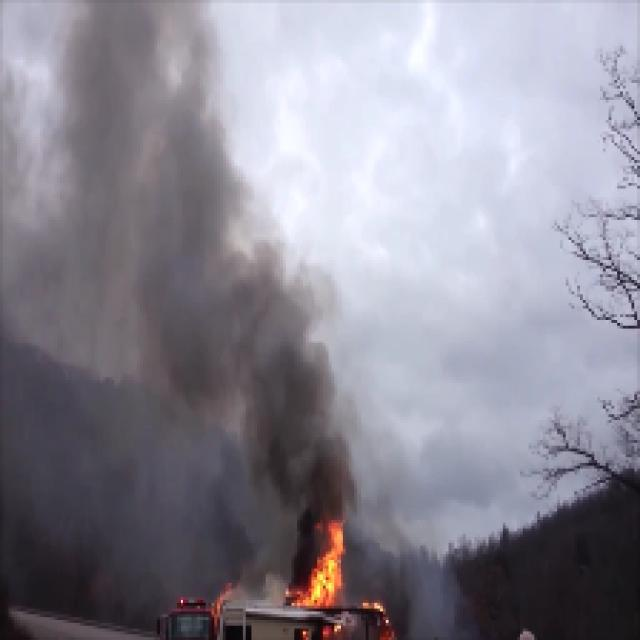fire: (309, 530, 342, 610)
smoke: (119, 94, 202, 361), (272, 381, 346, 506), (210, 259, 262, 394)
